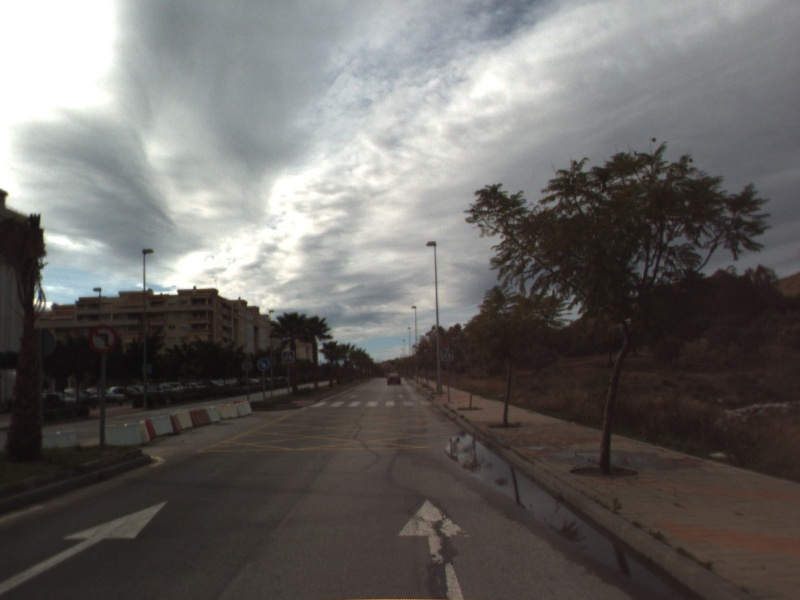STRAIGHT: (1, 496, 172, 596), (394, 497, 476, 600)
